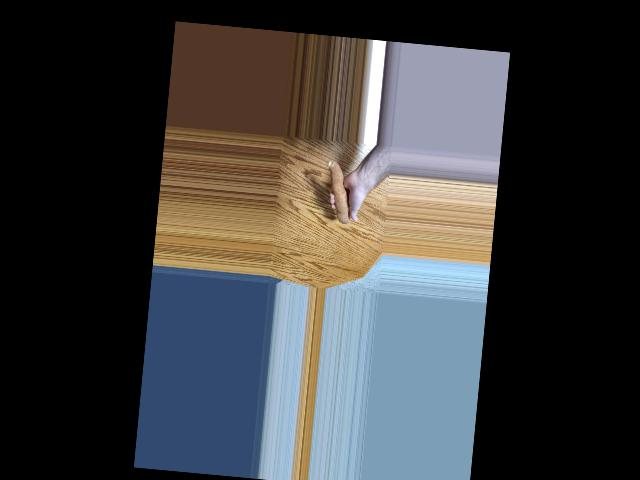sweet_potato: (332, 161, 354, 225)
